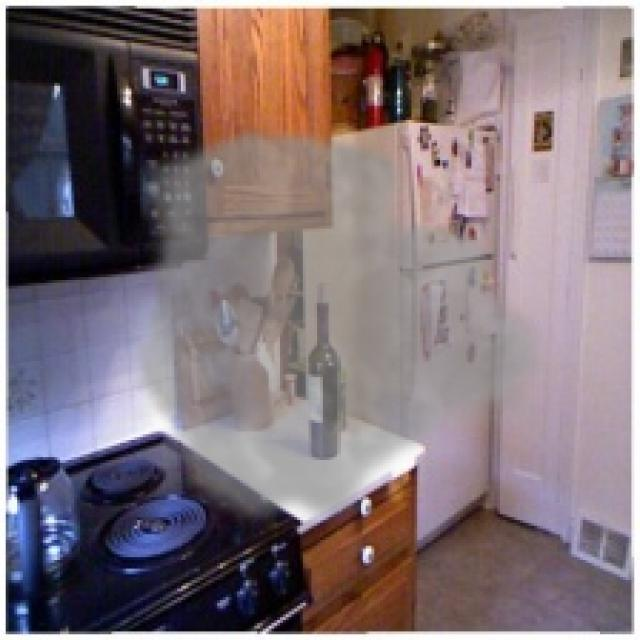smoke: (129, 120, 554, 534)
